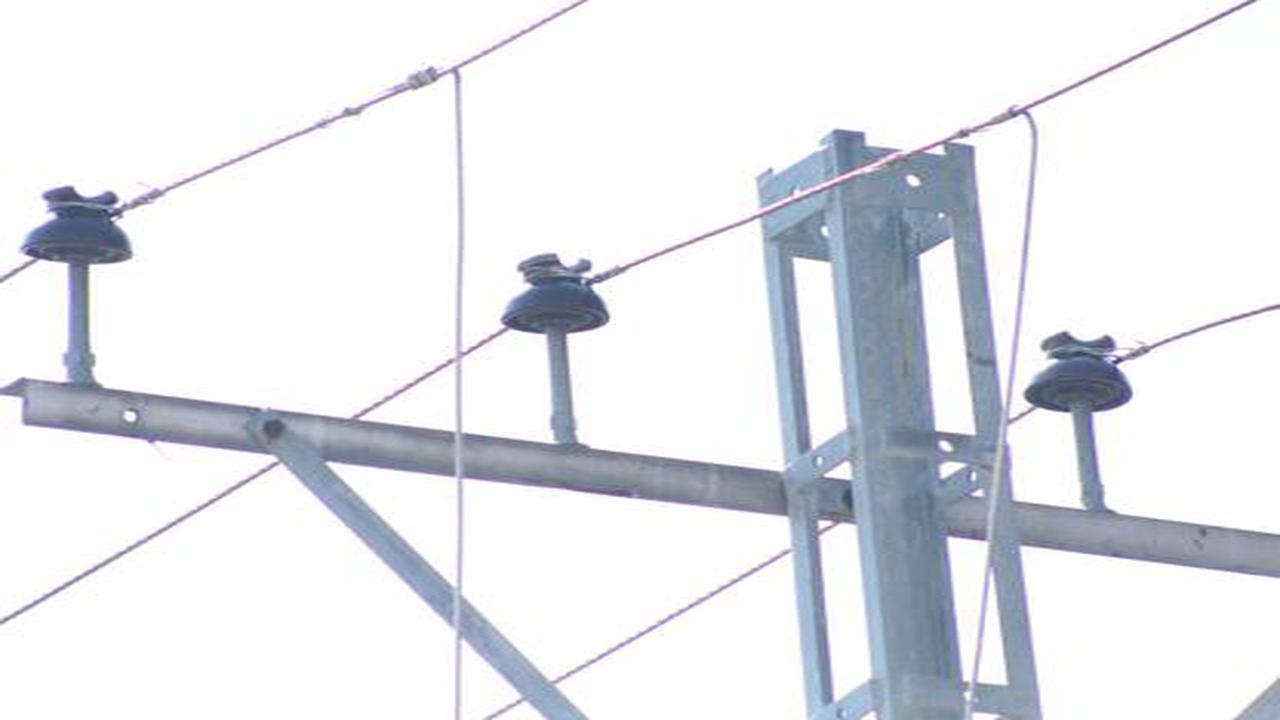insulator_pin: (20, 174, 143, 274), (496, 245, 616, 340), (1023, 326, 1139, 419)
